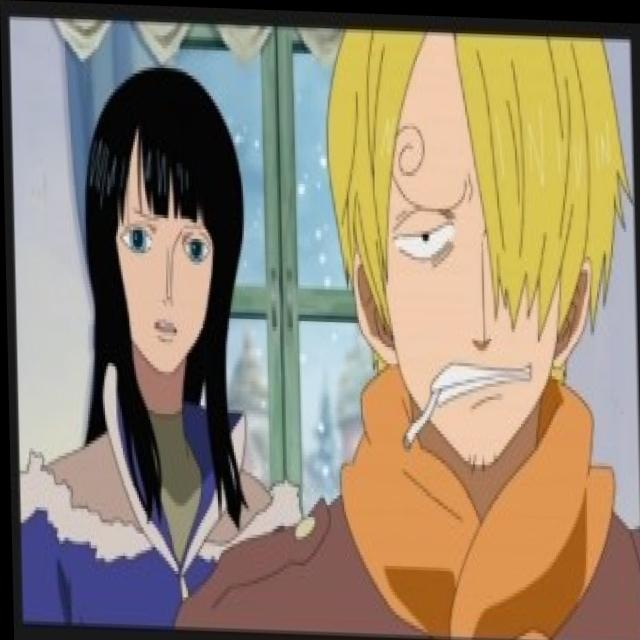NicoRobin: (66, 57, 258, 516)
Sangdi: (314, 24, 637, 468)
